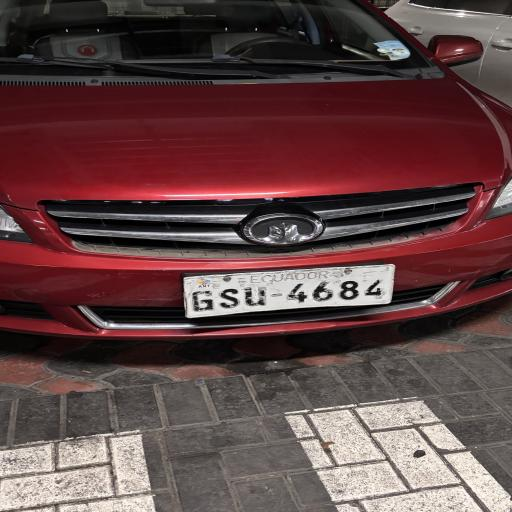license_plate: (184, 265, 394, 318)
